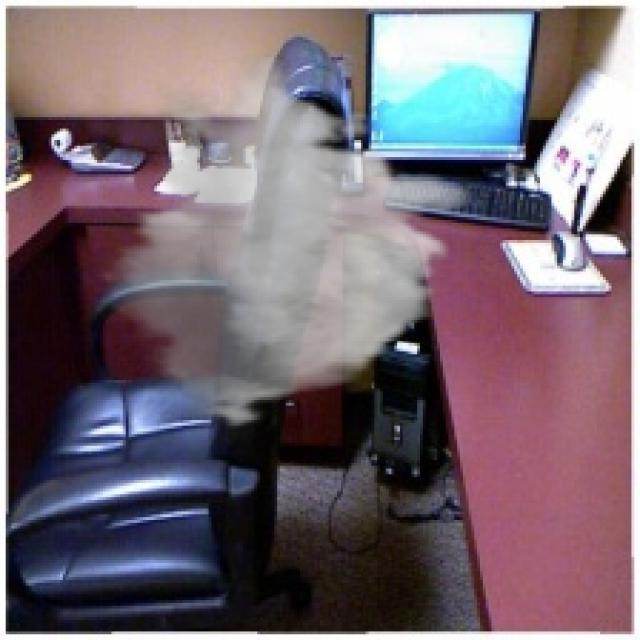Smoke: (92, 54, 474, 432)
